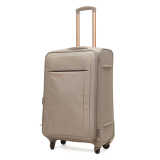luggage: (40, 5, 116, 154), (42, 6, 116, 154)
